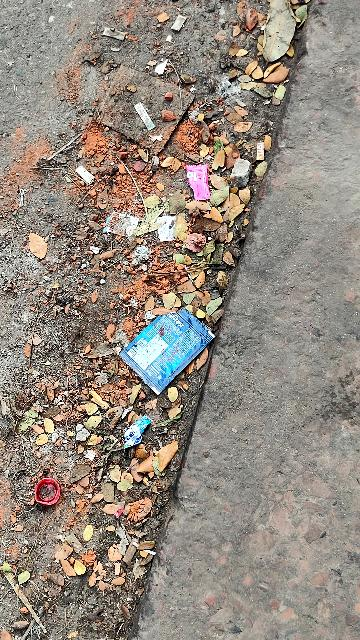packet: (112, 297, 225, 407)
